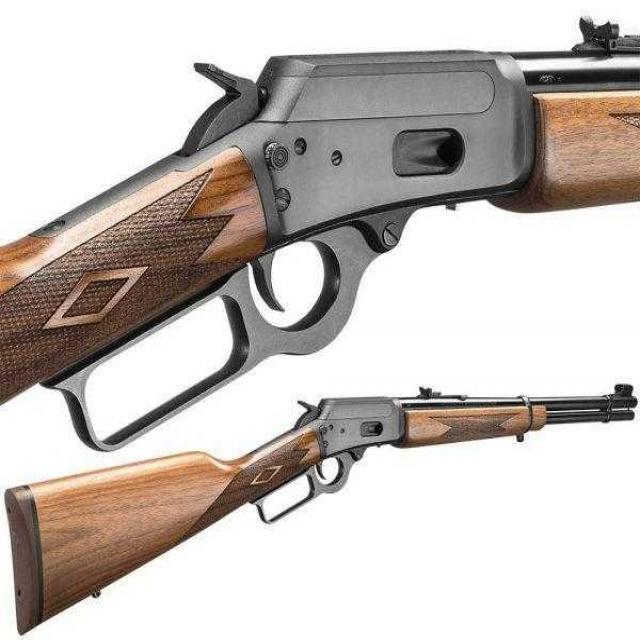weapon: (0, 14, 640, 449), (16, 336, 635, 628)
